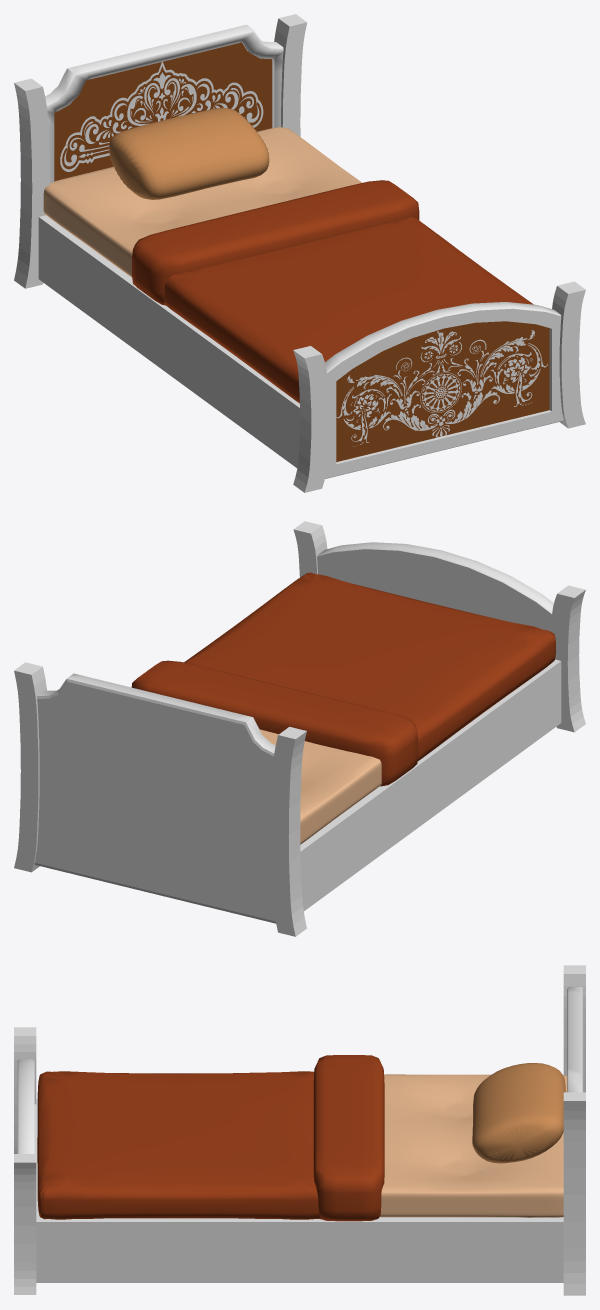
Rendered from bed_tier10.fbx.
3 renders of one model, top to bottom at view 1: azimuth 30°, elevation 25°; view 2: azimuth 150°, elevation 25°; view 3: azimuth 270°, elevation 25°, orthographic.
Parts seen in each view (by area): view 1: Cube.007, Cube.002, Cube.001, Cylinder.012, Cube.009, Cube.008; view 2: Cube.007, Cube.002, Cube.001; view 3: Cube.002, Cube.007, Cube.001, Cylinder.012.
Boxes of the visible parts, x1,y1,x2,y2 form: Cube.007: [14, 14, 585, 492]; Cube.002: [132, 180, 533, 403]; Cube.001: [43, 127, 362, 277]; Cylinder.012: [109, 108, 269, 199]; Cube.009: [336, 330, 547, 446]; Cube.008: [60, 62, 263, 171]; Cube.007: [14, 521, 585, 936]; Cube.002: [131, 572, 555, 786]; Cube.001: [259, 729, 381, 844]; Cube.002: [37, 1055, 384, 1221]; Cube.007: [14, 965, 585, 1295]; Cube.001: [379, 1074, 567, 1217]; Cylinder.012: [472, 1063, 565, 1163].
Bounding box in the file's own units: 208 × 142 × 372.
